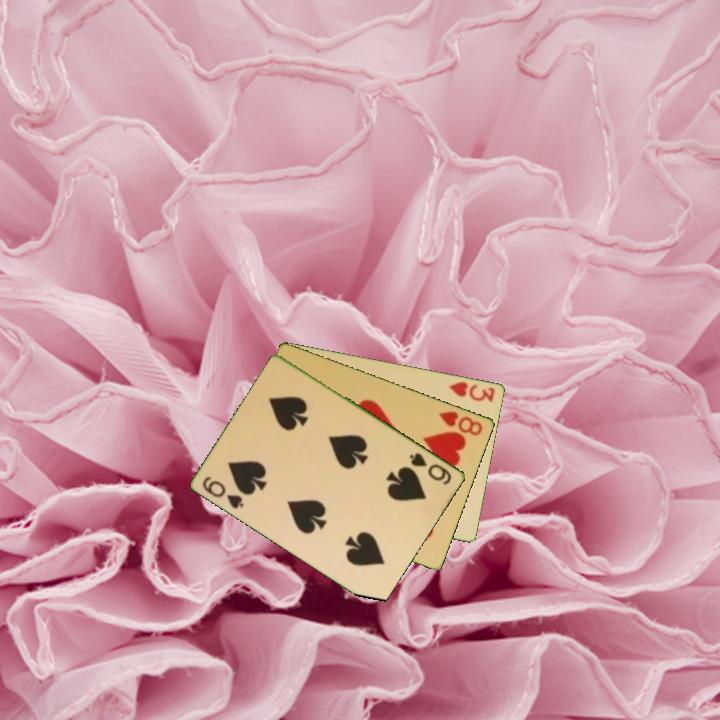3h: (445, 378, 498, 405)
6s: (406, 449, 455, 488), (199, 473, 247, 512)
8h: (436, 407, 486, 438)
